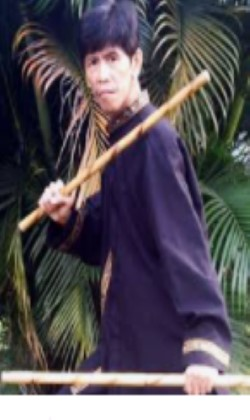baston_e: (34, 73, 197, 231)
baston_v: (194, 61, 219, 85), (10, 211, 29, 235)
